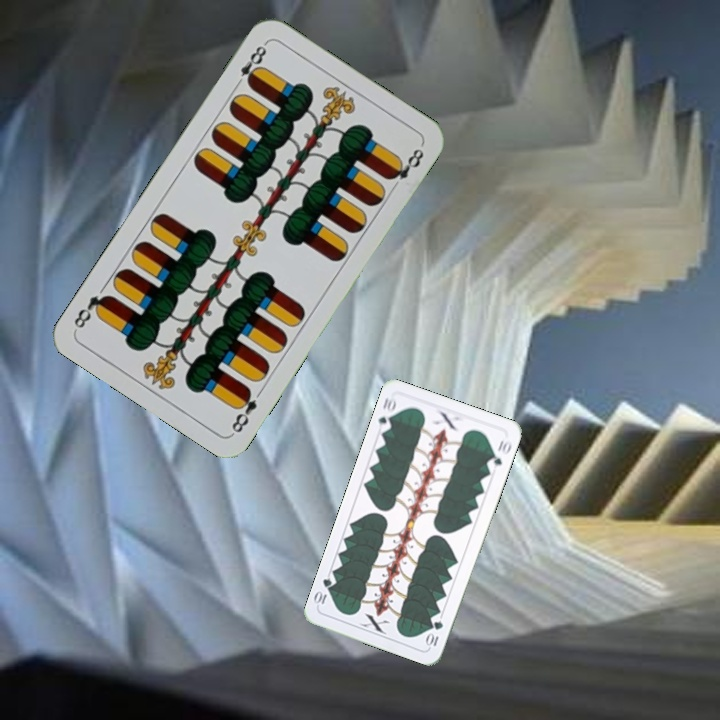E8: (230, 39, 270, 91), (227, 384, 260, 436)
G10: (374, 393, 399, 434), (423, 617, 446, 649)
